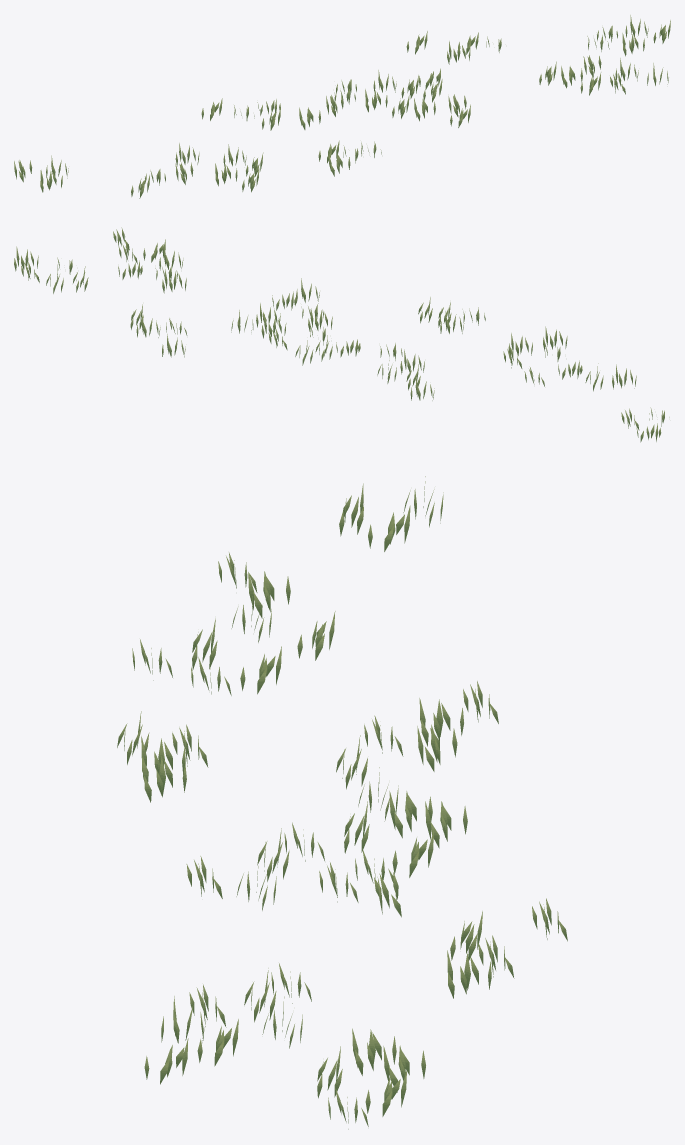
The model's file is plants_un_main_grass_set11_03.gltf.
3 views of the same model, one above another, from view 1: azimuth 30°, elevation 25°; view 2: azimuth 150°, elevation 25°; view 3: azimuth 270°, elevation 25° (orthographic). The views are drawn at different scales.
Visible parts, largest first — view 1: plants_un_main_grass_set11_03_mesh_shape:plants_un_main_gras; view 2: plants_un_main_grass_set11_03_mesh_shape:plants_un_main_gras; view 3: plants_un_main_grass_set11_03_mesh_shape:plants_un_main_gras.
Part boxes in pixels (<box>): plants_un_main_grass_set11_03_mesh_shape:plants_un_main_gras: <box>14,15,670,198</box>; plants_un_main_grass_set11_03_mesh_shape:plants_un_main_gras: <box>14,227,669,442</box>; plants_un_main_grass_set11_03_mesh_shape:plants_un_main_gras: <box>117,476,567,1129</box>.
Size of what is drawn, in the model's own units: 14.84 by 0.4607 by 4.55.
1 material, 1 textured.
